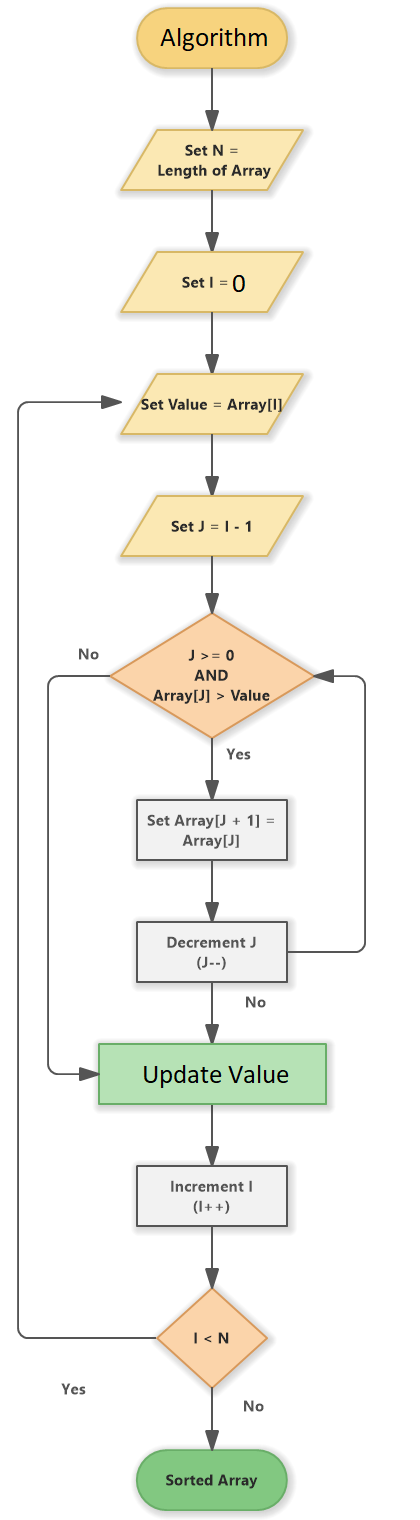arrow: (9, 390, 155, 1350), (39, 669, 123, 1088), (286, 667, 376, 962), (197, 430, 227, 502), (199, 64, 230, 132), (199, 855, 230, 923), (197, 553, 230, 613), (197, 185, 225, 255), (199, 725, 225, 797), (199, 1381, 225, 1453), (199, 978, 225, 1046), (199, 1102, 225, 1169), (199, 311, 225, 374), (202, 1223, 225, 1290)
data: (106, 485, 320, 571), (116, 367, 327, 446), (113, 239, 313, 320), (116, 120, 316, 197)
decision: (102, 609, 320, 743), (146, 1276, 274, 1388)
process: (90, 1037, 337, 1113), (125, 1155, 297, 1234), (127, 913, 297, 992), (127, 792, 295, 869)
terminator: (132, 4, 292, 78), (132, 1443, 290, 1516)
text: (155, 643, 274, 711), (153, 141, 279, 185), (146, 811, 279, 850), (141, 1060, 292, 1090), (153, 18, 274, 55), (165, 1174, 260, 1218), (162, 934, 258, 974), (137, 395, 288, 416), (158, 1469, 260, 1495), (165, 516, 265, 541), (179, 271, 251, 297), (188, 1325, 237, 1350), (220, 734, 255, 767), (58, 1376, 92, 1404), (237, 988, 276, 1011), (237, 1392, 269, 1416), (74, 643, 104, 664)
